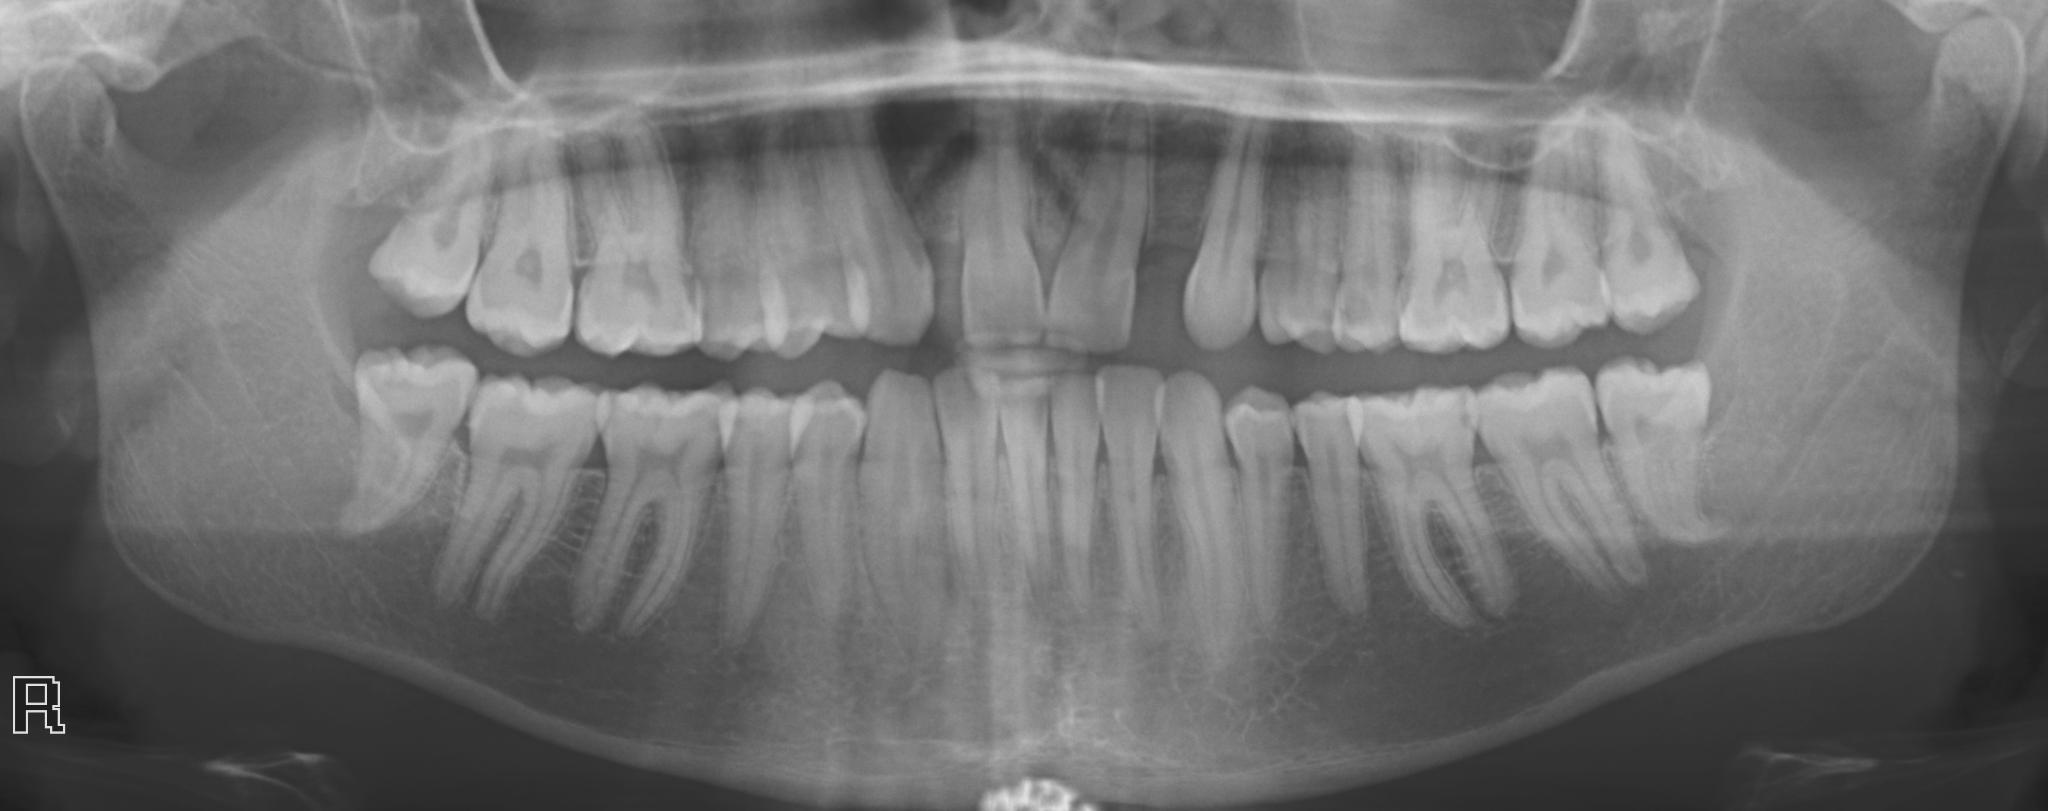Implant: (10, 674, 61, 733)
